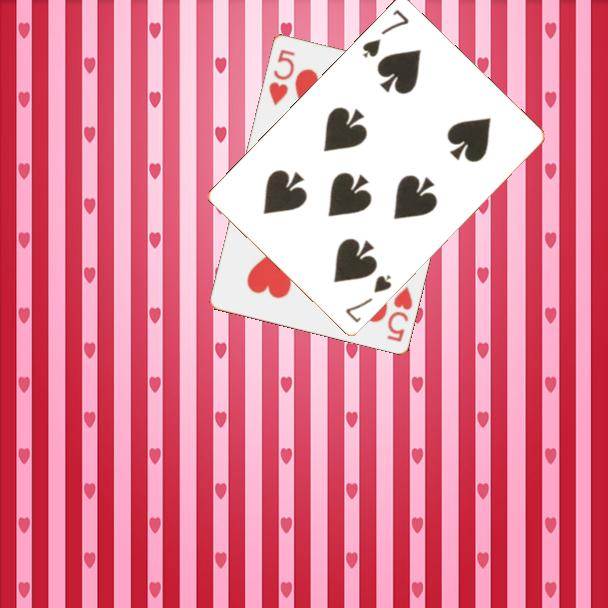h05: (265, 45, 298, 108), (383, 283, 415, 345)
s07: (342, 271, 395, 326), (359, 6, 412, 61)
